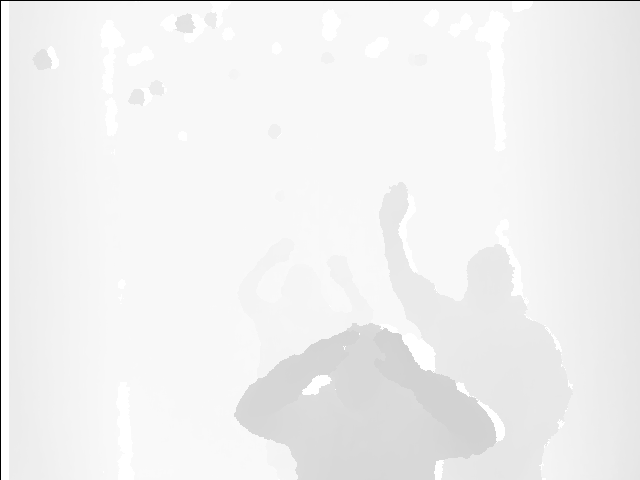hand: (376, 182, 410, 234), (324, 252, 355, 282), (264, 236, 293, 261)
